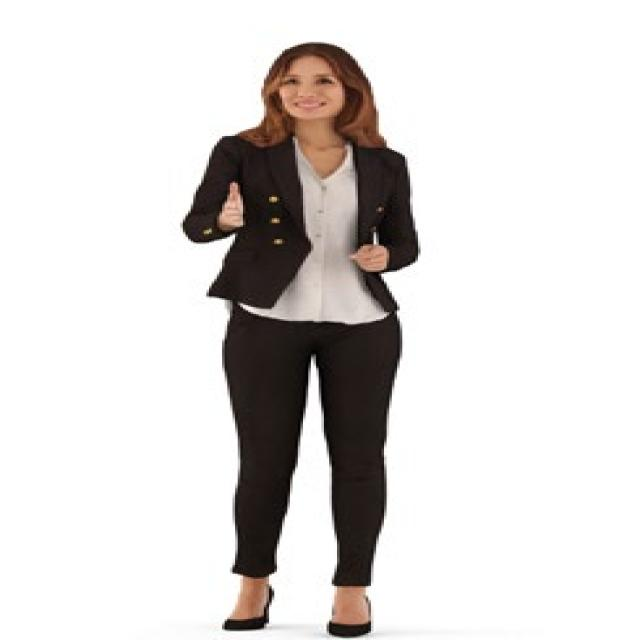standing: (179, 42, 420, 640)
